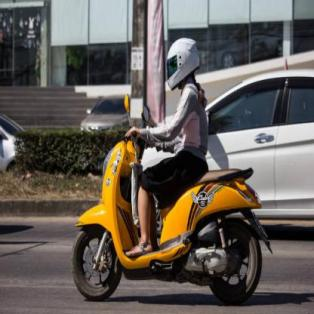Motocicleta: (72, 92, 270, 309)
